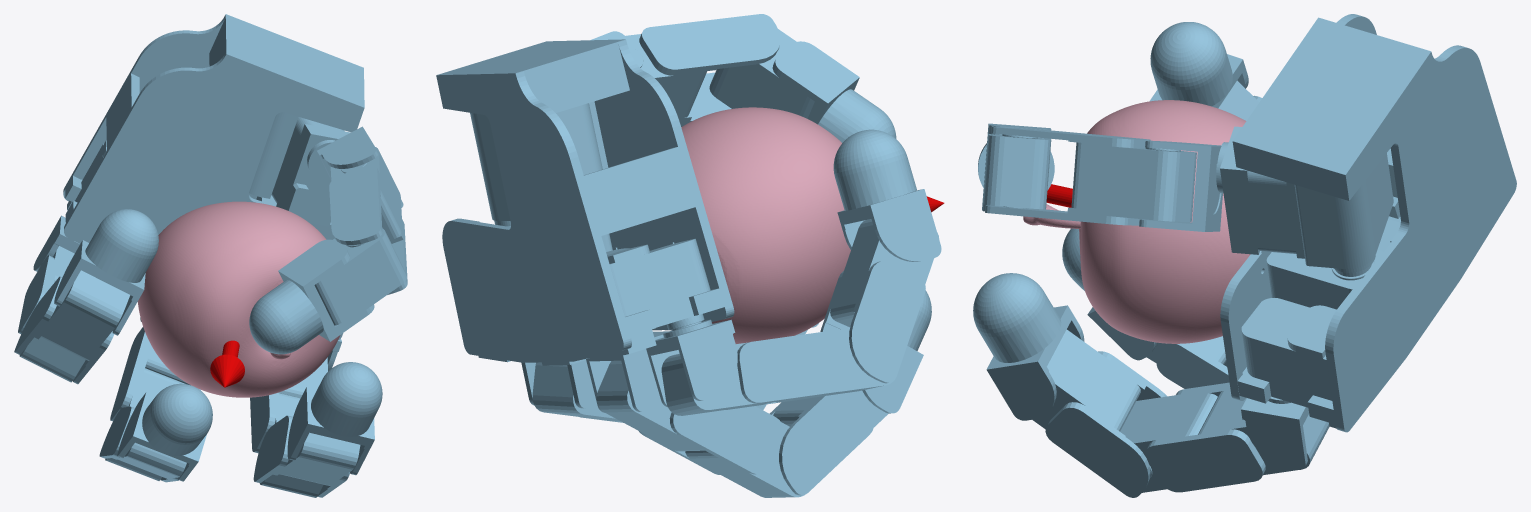
The picture shows the model from 3 angles, left to right: view 1: azimuth 30°, elevation 25°; view 2: azimuth 150°, elevation 25°; view 3: azimuth 270°, elevation 25°; orthographic projection. The views are drawn at different scales.
Visible parts, largest first — view 1: world, apple.stl; view 2: world, apple.stl; view 3: world, apple.stl.
Boxes of the visible parts, x1,y1,x2,y2 form: world: (14, 14, 407, 497); apple.stl: (137, 201, 340, 397); world: (436, 14, 944, 497); apple.stl: (681, 107, 850, 343); world: (973, 14, 1516, 497); apple.stl: (1023, 100, 1250, 343).
Size of the model in its own units: 0.1604 by 0.1624 by 0.1703.
